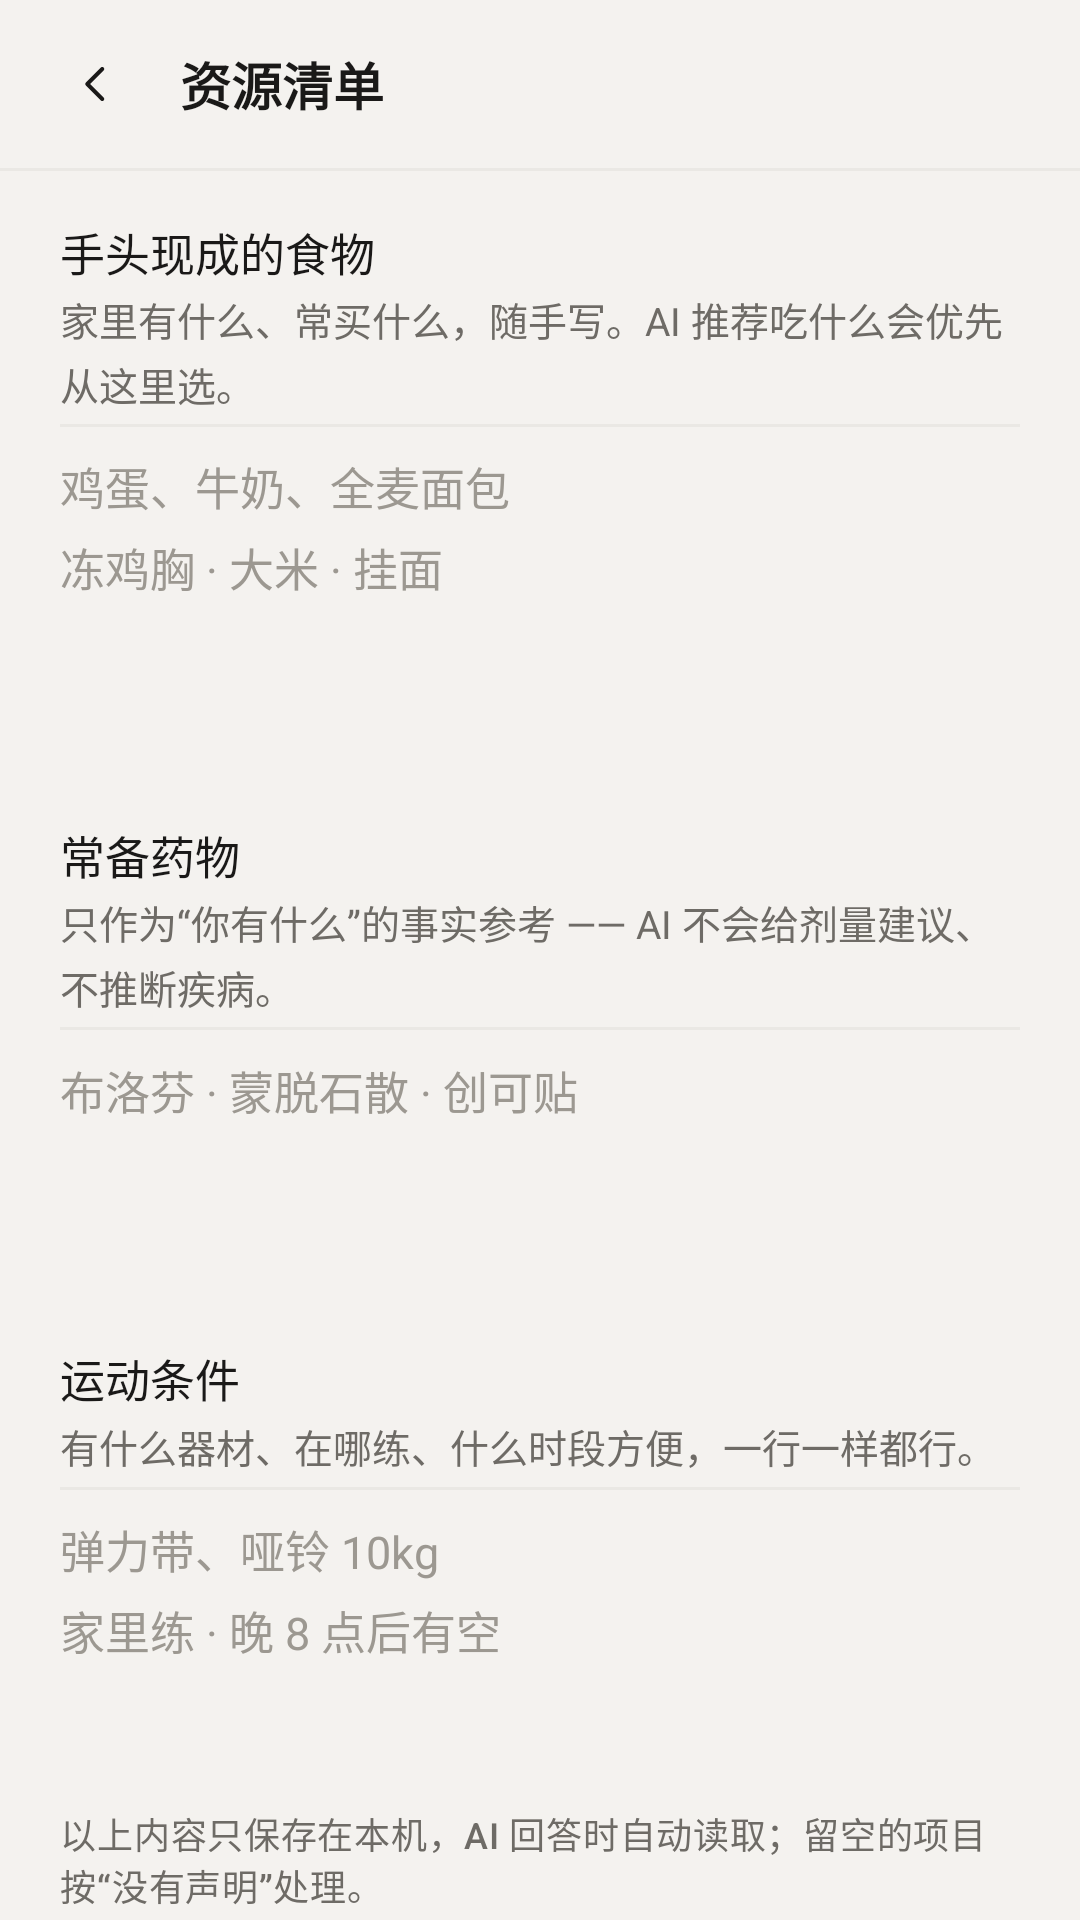

Icon bounding boxes for this 1080w x 1920h phone screenshot, format {"x1": x1, "y1": y1, "x2": x2, "y2": y2}:
返回: {"x1": 85, "y1": 67, "x2": 105, "y2": 101}
